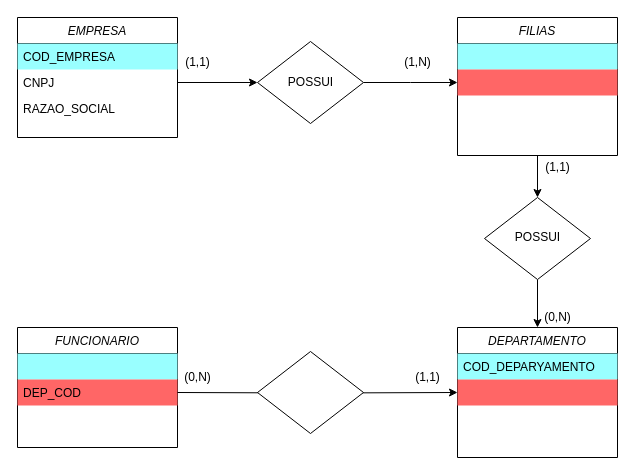
This 635x475 diagram has some shape labels left out. The centre of each missing label's shape, as x and y in pixels:
"COD_FILIAL" belongs at point (537, 56).
"COD_FUNCIONARIO" belongs at point (97, 366).
"EMPRESA_COD" belongs at point (537, 82).
"FILIAL_COD" belongs at point (537, 392).
"TRABALHA" belongs at point (310, 392).
